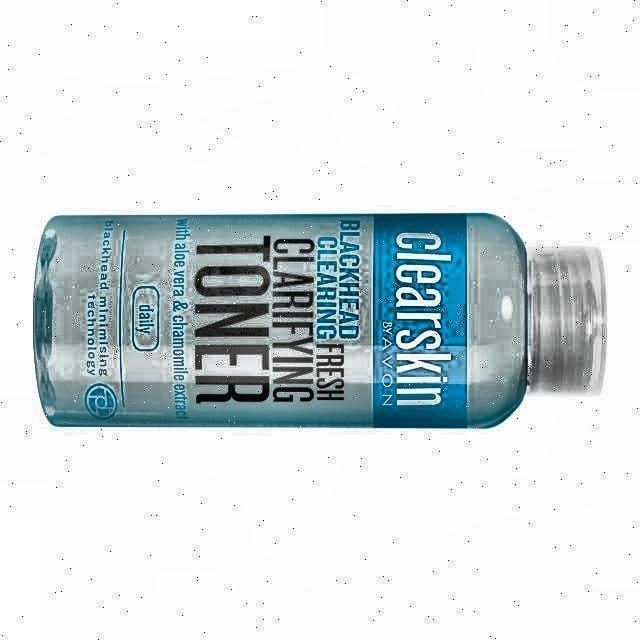plastic: (34, 214, 607, 427)
